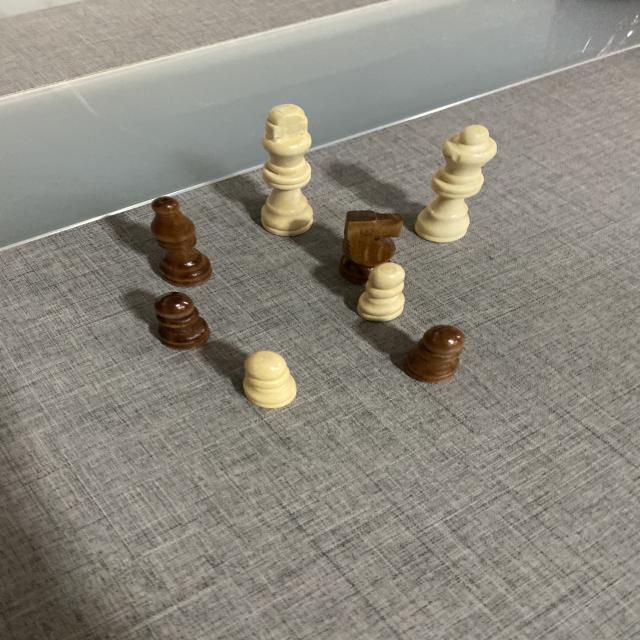Black-Bishop: (148, 195, 214, 288)
Black-Knight: (337, 210, 408, 285)
Black-Pawn: (404, 323, 467, 384), (152, 290, 213, 352)
White-King: (260, 103, 314, 238)
White-Pawn: (354, 260, 414, 322), (241, 350, 299, 410)
White-Queen: (413, 123, 500, 244)
